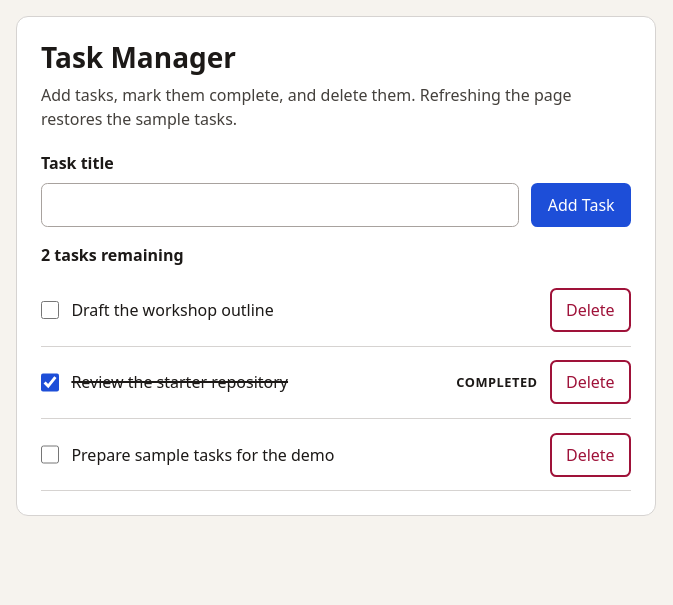
Test: Task Manager › trims surrounding whitespace before adding a task
Type "   Schedule the lab   " into the field labelled "Task title" at (280, 205), box [41,183,519,227]
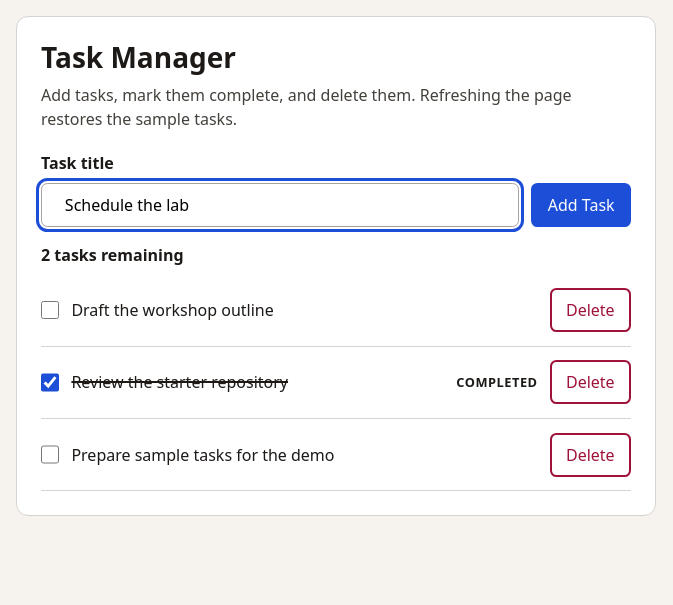
Click the button "Add Task" at (581, 205), box [531,183,631,227]
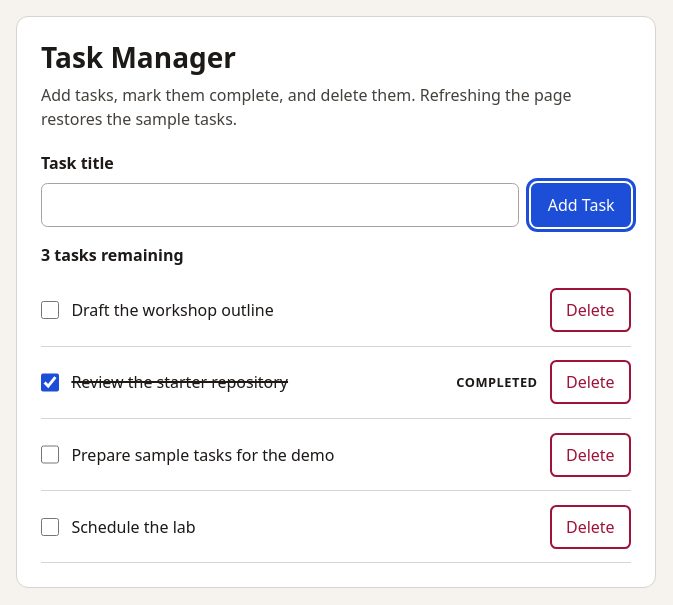
Result: the text "Schedule the lab" is shown at [71,516,196,538]
Result: the field labelled "Task title" is empty at [41,183,519,227]
